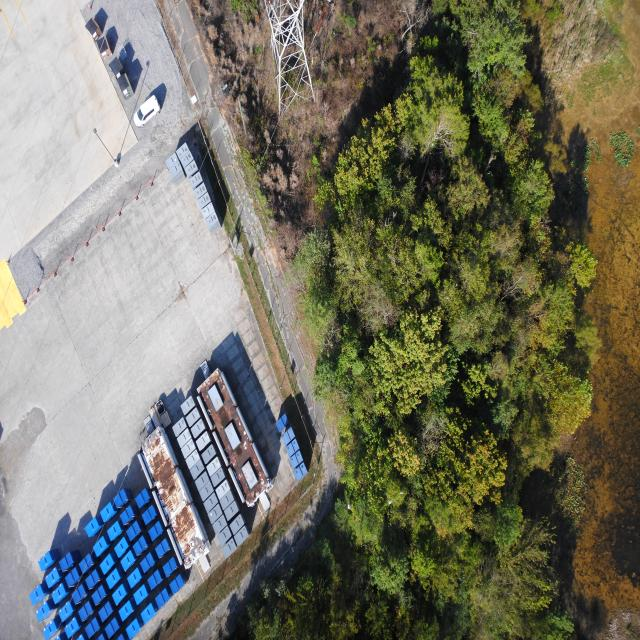Area of Interest: (255, 7, 578, 636)
